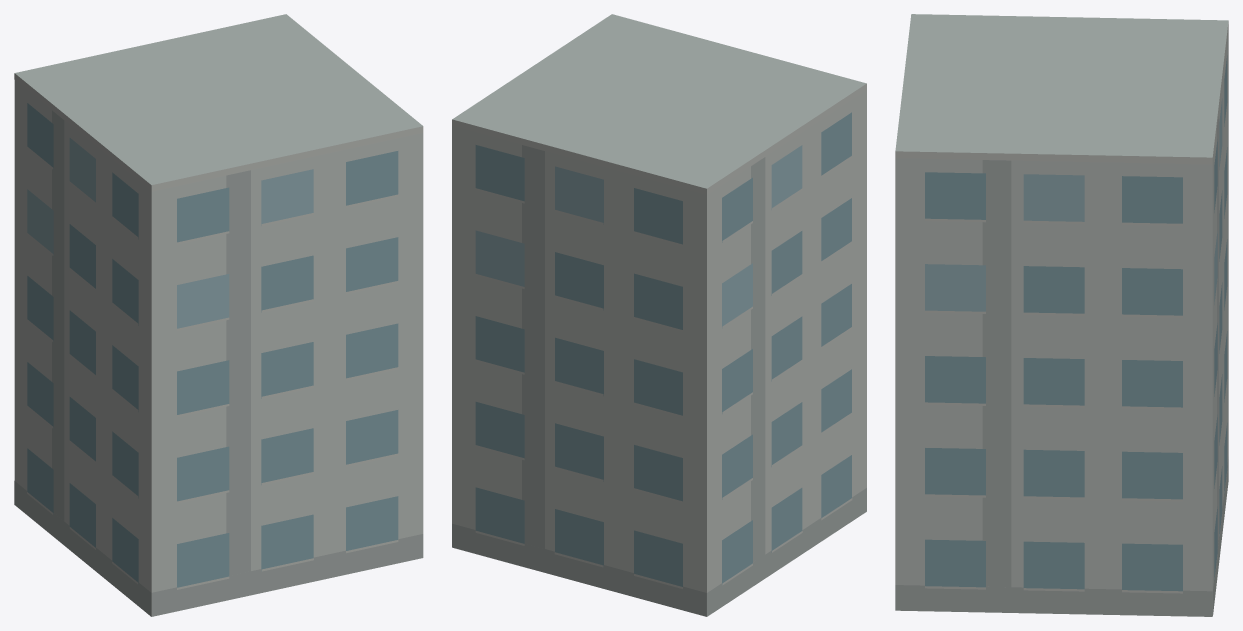
The model's file is survey-upis-32929964.glb.
3 views of the same model, side by side, from view 1: azimuth 30°, elevation 25°; view 2: azimuth 150°, elevation 25°; view 3: azimuth 270°, elevation 25° (orthographic). The views are drawn at different scales.
Visible parts, largest first — view 1: survey-upis-32929964.tmp; view 2: survey-upis-32929964.tmp; view 3: survey-upis-32929964.tmp.
Boxes of the visible parts, left/top/right/bottom form: survey-upis-32929964.tmp: left=14, top=14, right=423, bottom=616; survey-upis-32929964.tmp: left=452, top=14, right=866, bottom=616; survey-upis-32929964.tmp: left=895, top=14, right=1228, bottom=616.
Size of the model in its own units: 10.75 by 16.02 by 10.55.
